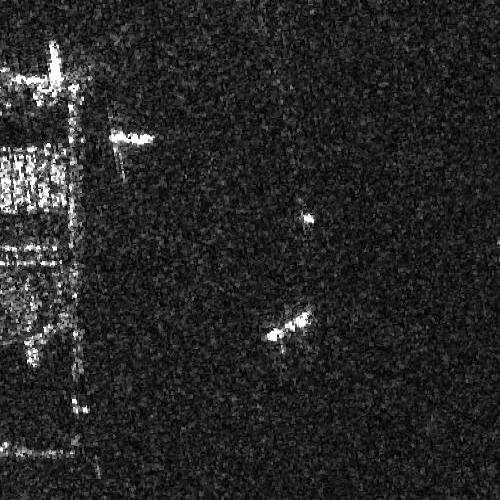ship: (267, 309, 313, 344), (108, 128, 156, 147)
